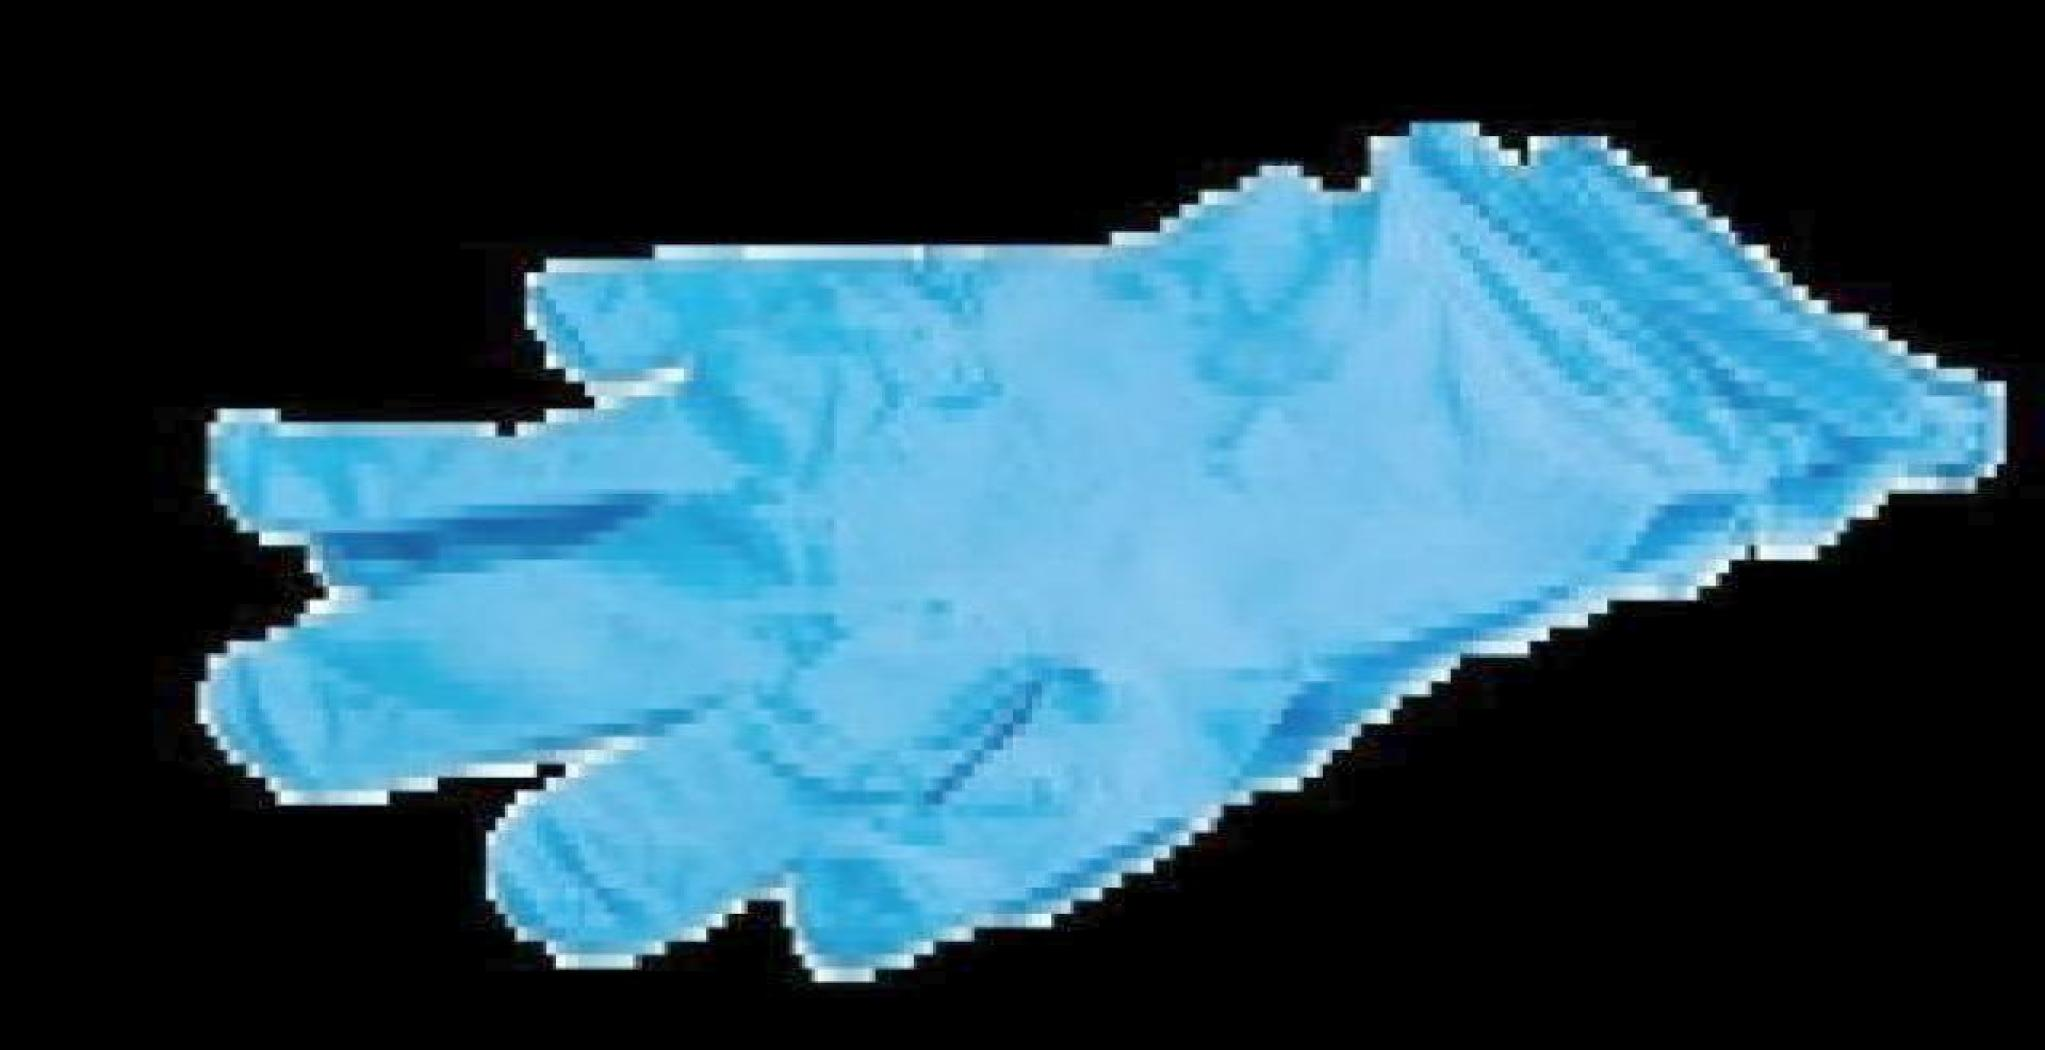gloved: (179, 117, 2013, 984)
